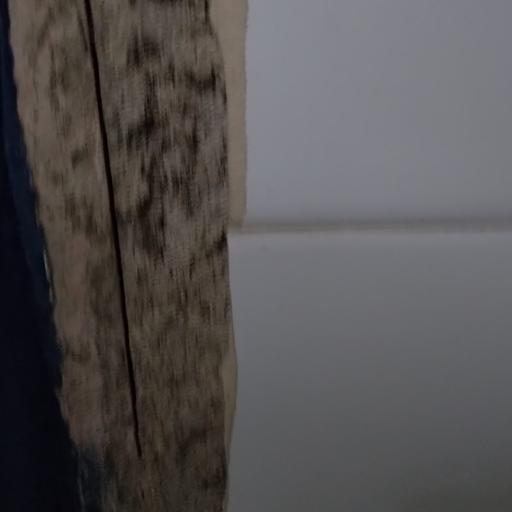spalling: (8, 0, 241, 512)
